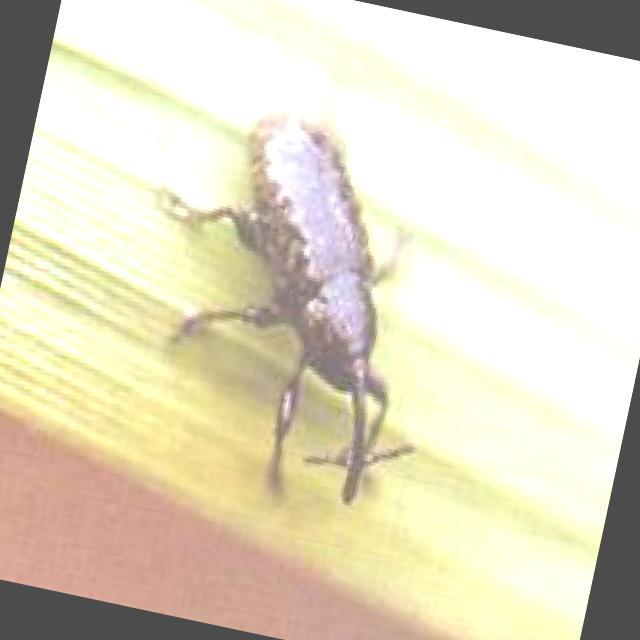ricebug: (161, 113, 413, 503)
